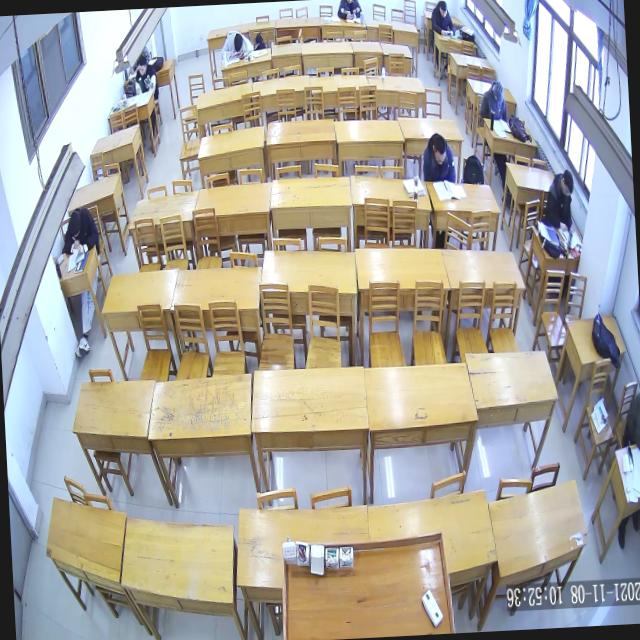bow: (218, 28, 254, 64)
down: (431, 134, 449, 168), (66, 210, 83, 240), (560, 168, 576, 198), (492, 78, 506, 107), (136, 54, 148, 78), (232, 31, 244, 55), (438, 0, 449, 20)
sit: (542, 168, 578, 234), (61, 203, 101, 258), (421, 130, 456, 186), (476, 78, 509, 124), (132, 53, 160, 98), (430, 0, 457, 39)
